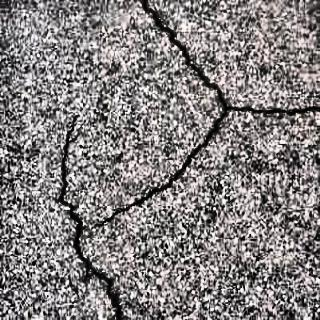crack: (96, 111, 226, 226), (57, 110, 122, 320), (138, 0, 230, 110), (225, 104, 320, 115)
